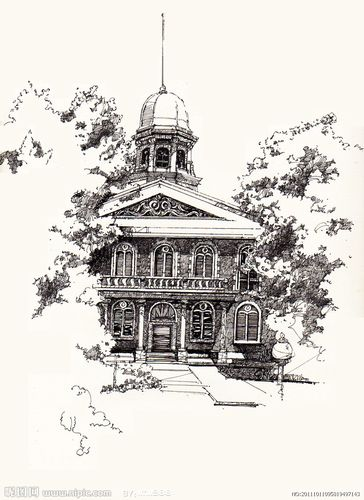buildings: (93, 121, 262, 393), (124, 38, 209, 250)
